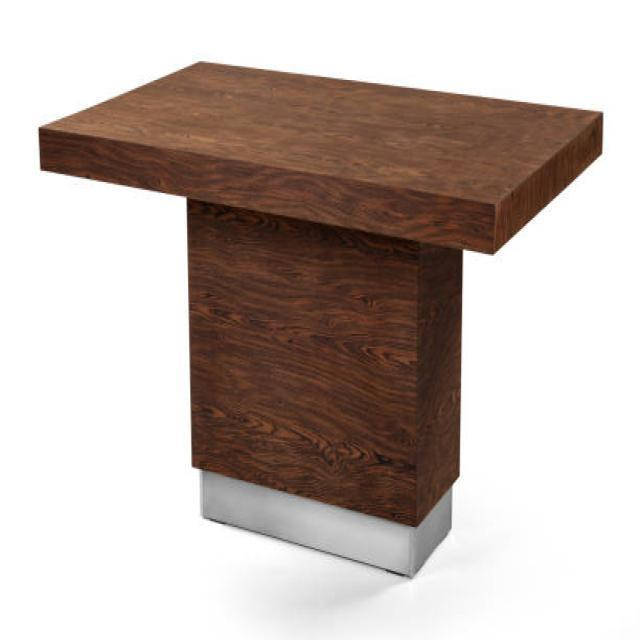table: (37, 58, 604, 579)
